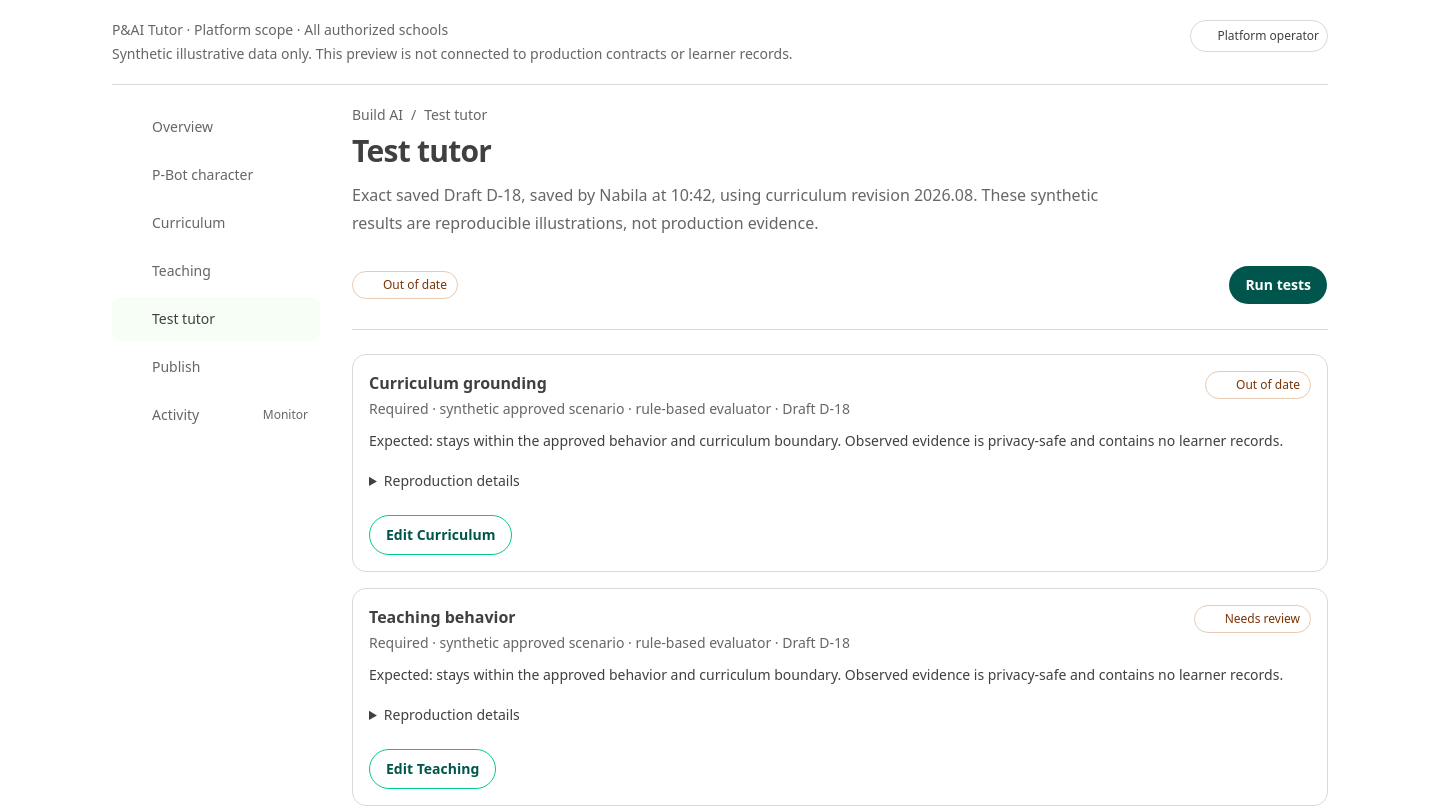
Test case: Build AI state transitions › shows honest non-pass states and advances a saved Draft through tests
Expected: the text "Needs review" is shown, [1194,605,1311,633]
Click the button "Run tests" at (1278, 285), box [1228,265,1328,305]
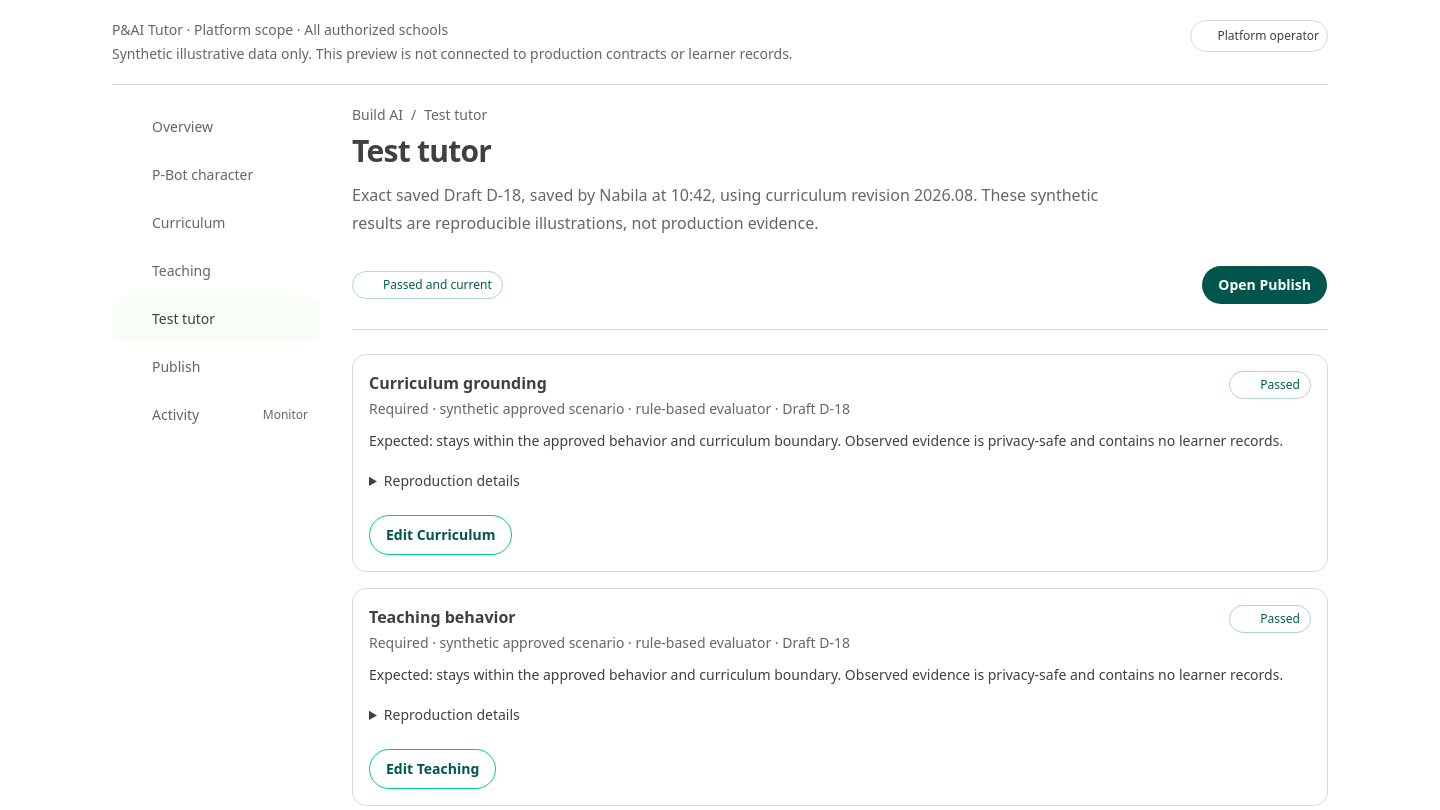
Click the button "Open Publish" at (1265, 285), box [1201,265,1328,305]
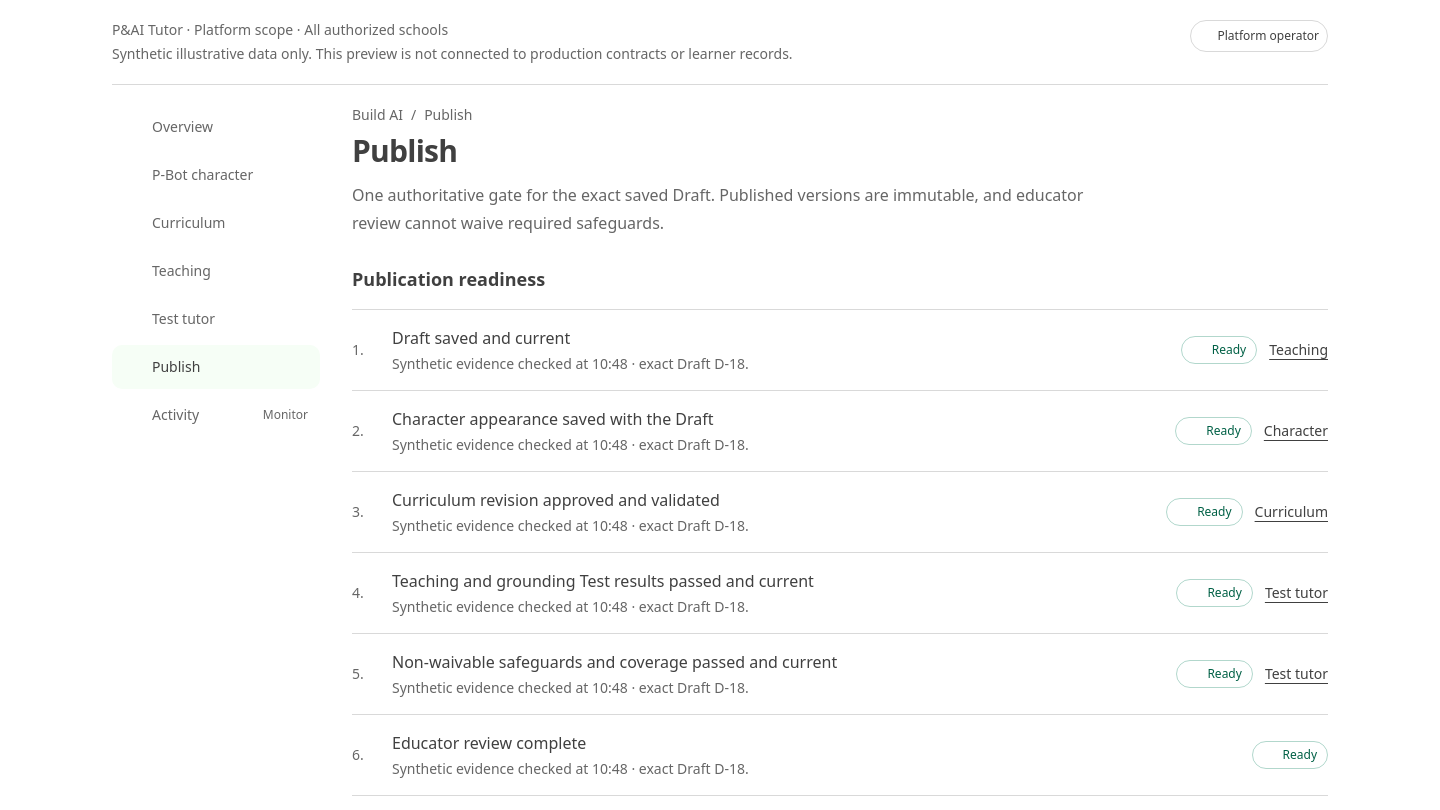
Expected: the heading "Publication readiness" is shown, [352,267,545,291]
